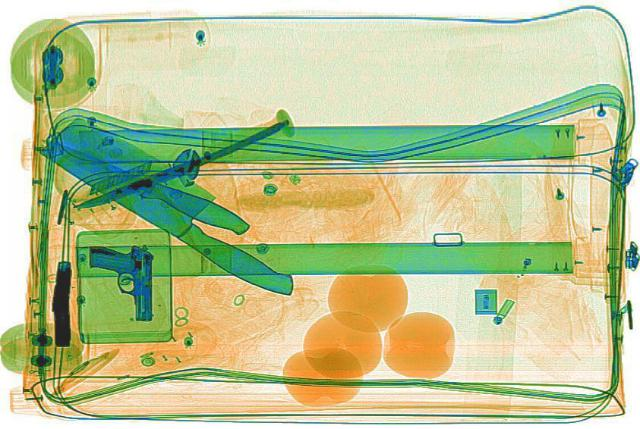Gun: (86, 244, 156, 321), (50, 260, 74, 345)
Knife: (25, 111, 333, 304), (30, 133, 256, 236), (75, 119, 291, 212)
